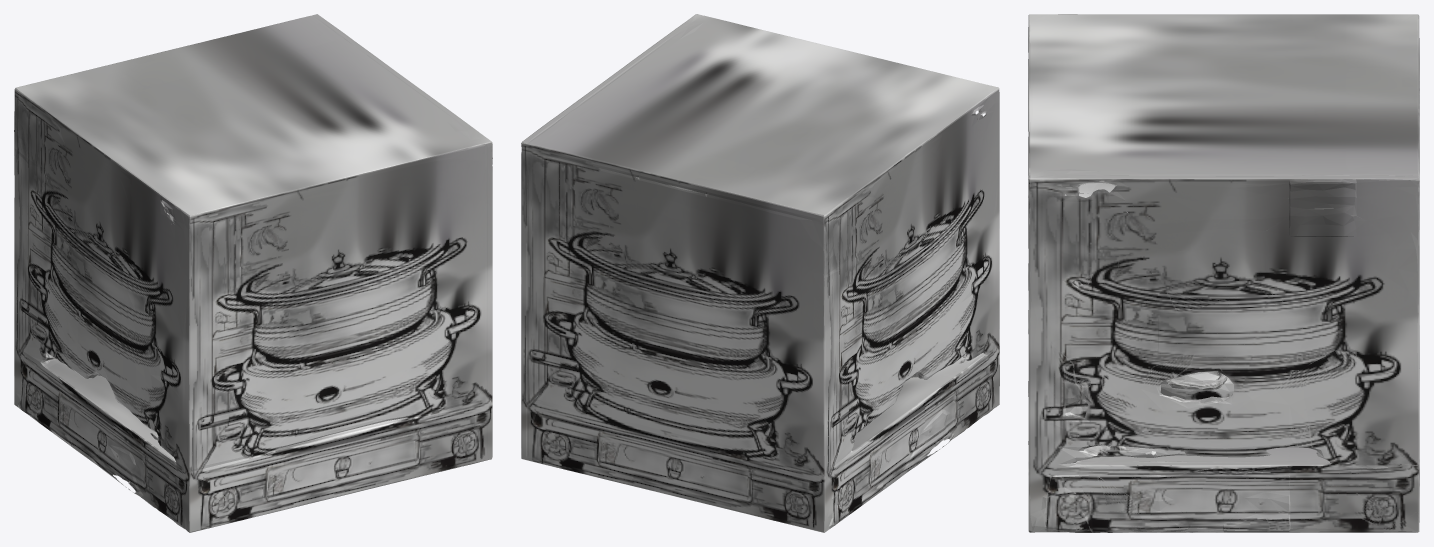
File: altar_hollow_chef.glb
3 renders of one model, left to right at view 1: azimuth 30°, elevation 25°; view 2: azimuth 150°, elevation 25°; view 3: azimuth 270°, elevation 25°, orthographic. The views are drawn at different scales.
Parts seen in each view (by area): view 1: altar_hollow_chef; view 2: altar_hollow_chef; view 3: altar_hollow_chef.
Boxes of the visible parts, x1,y1,x2,y2 form: altar_hollow_chef: (14, 14, 492, 532); altar_hollow_chef: (521, 14, 999, 532); altar_hollow_chef: (1028, 14, 1419, 532).
Bounding box in the file's own units: 1.83 × 1.8 × 1.8.
Materials: 1 (1 with a texture image).
